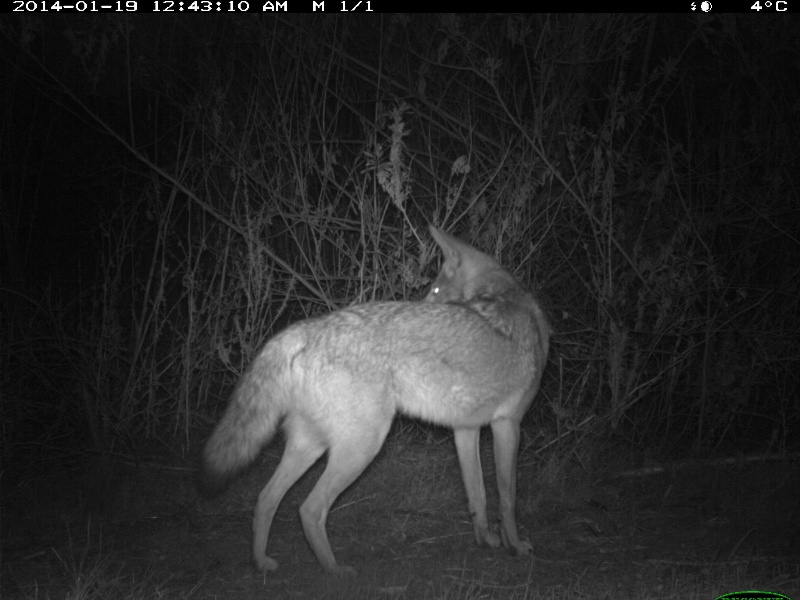coyote: (195, 223, 553, 574)
